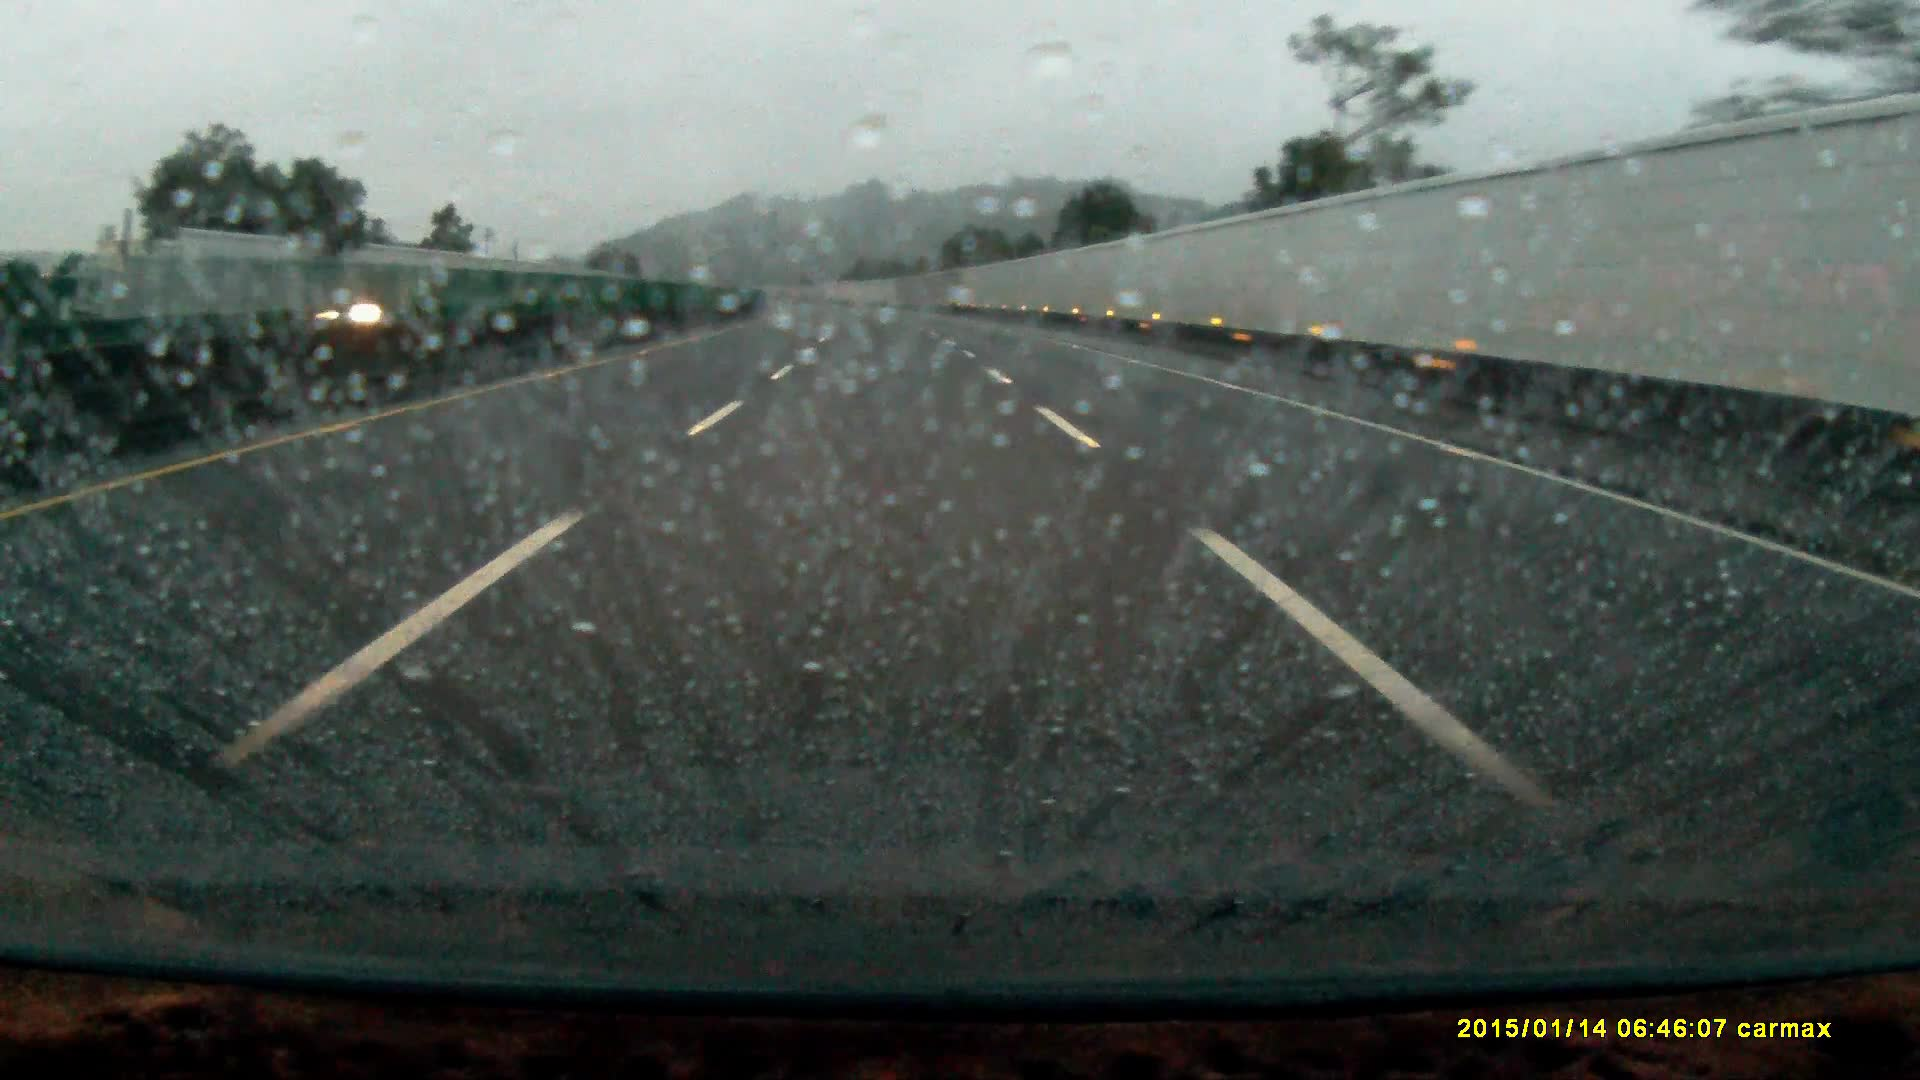vehicle: (314, 290, 410, 335)
